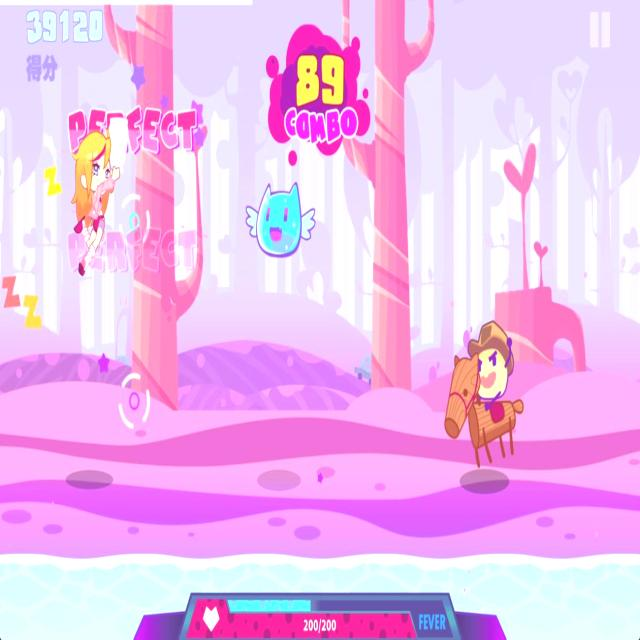mao: (246, 178, 318, 264)
qiu: (442, 317, 526, 475)
